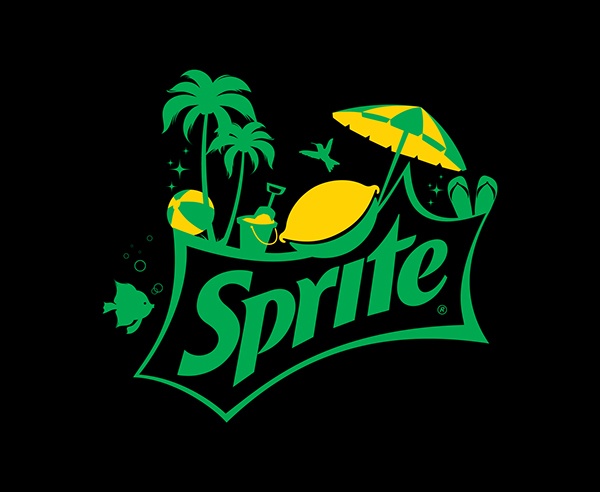sprite: (177, 213, 448, 386), (177, 213, 448, 381)
